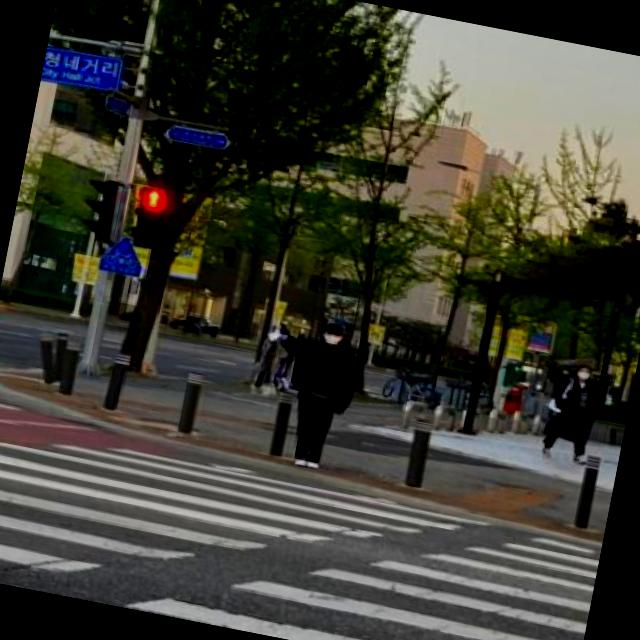Person: (250, 314, 368, 472), (536, 361, 608, 467)
